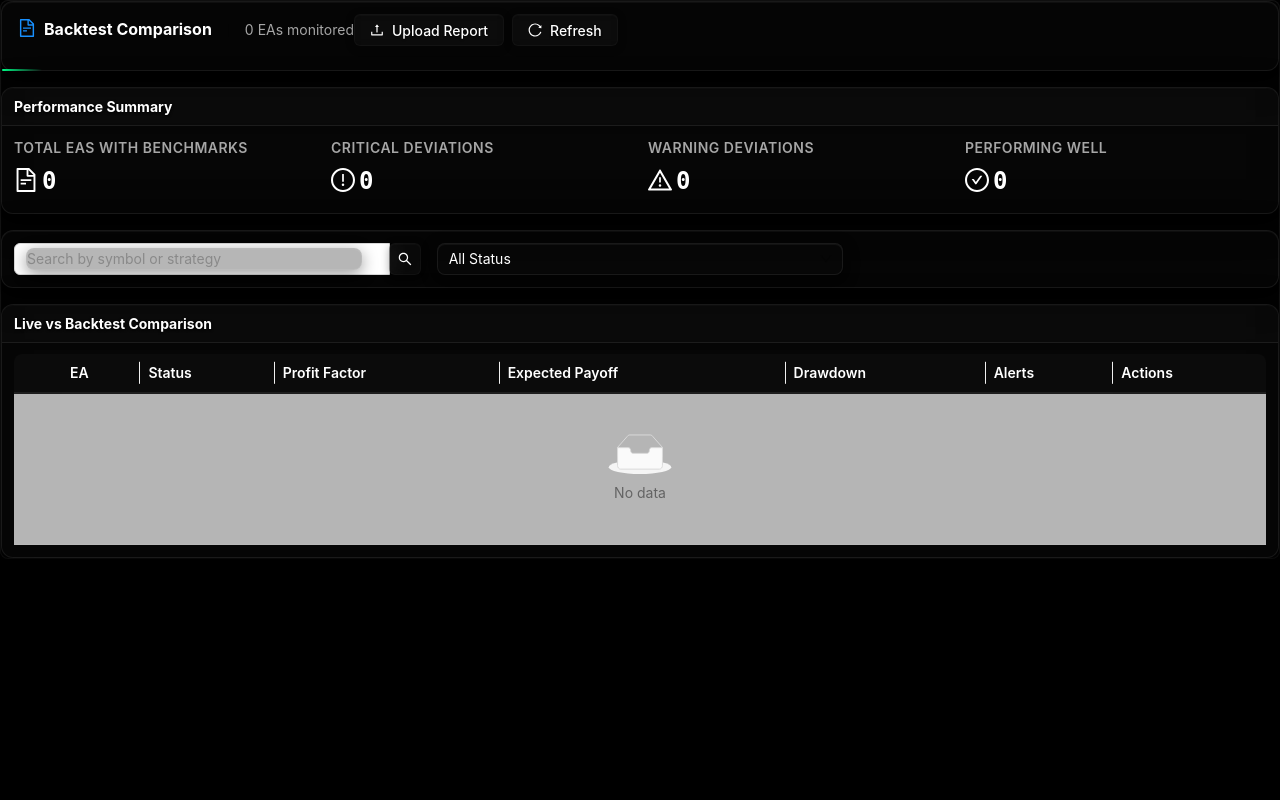
Scenario: BacktestComparisonPanel › opens upload modal when upload button is clicked
Click the button "Upload Report": (429, 30) [354, 14, 504, 46]
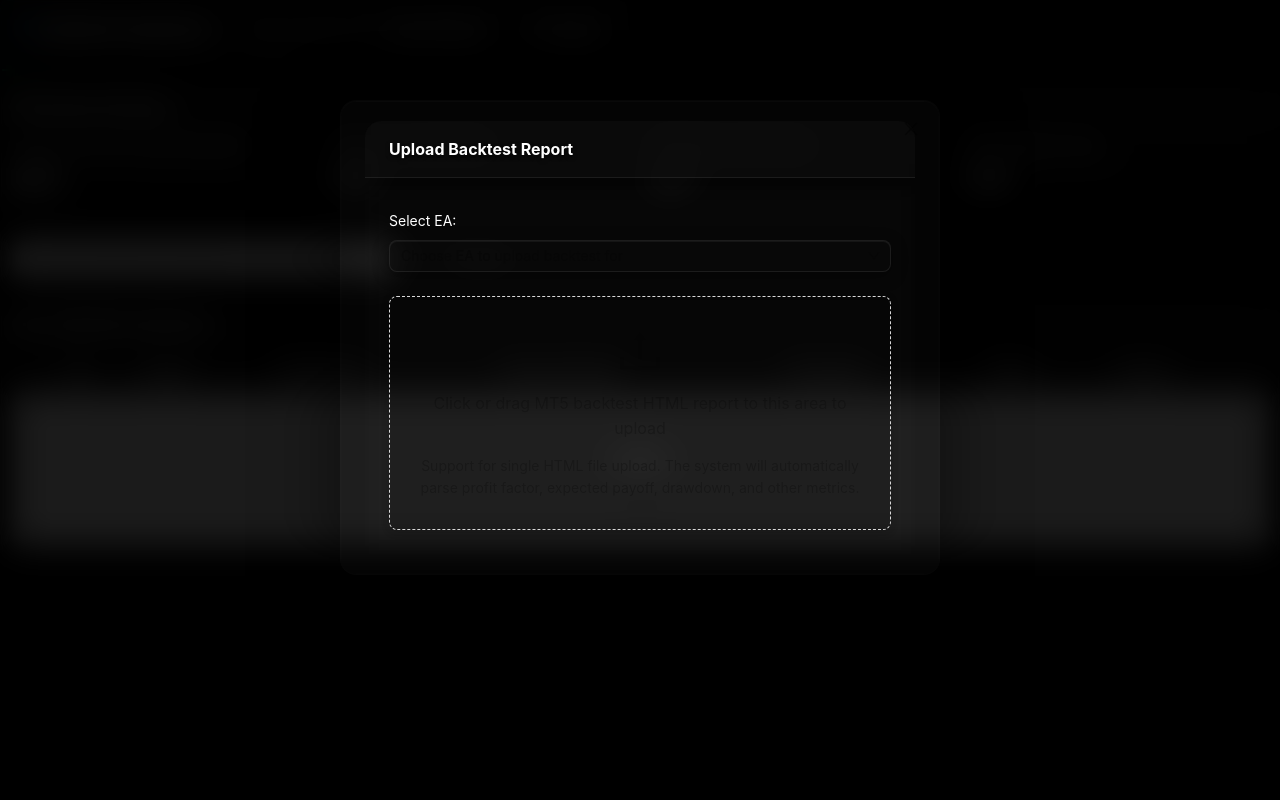
Expected: the text "Upload Backtest Report" is shown, [389, 139, 573, 159]
Expected: the text "Select EA:" is shown, [389, 212, 456, 229]
